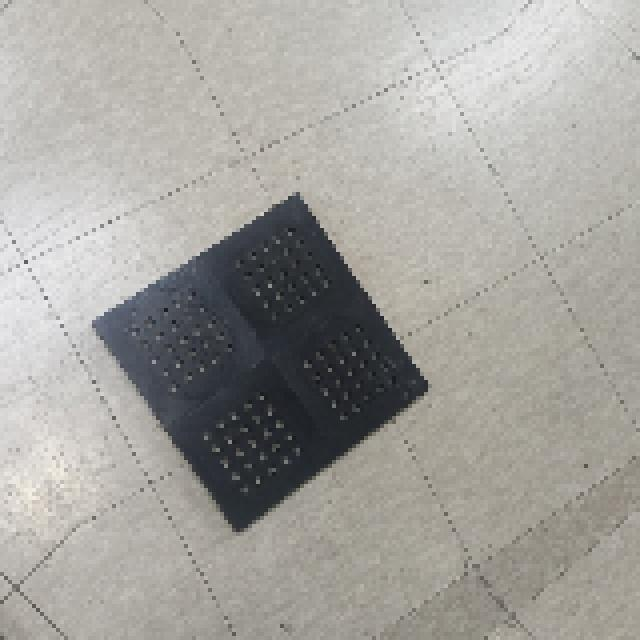pallet: (72, 165, 446, 540)
